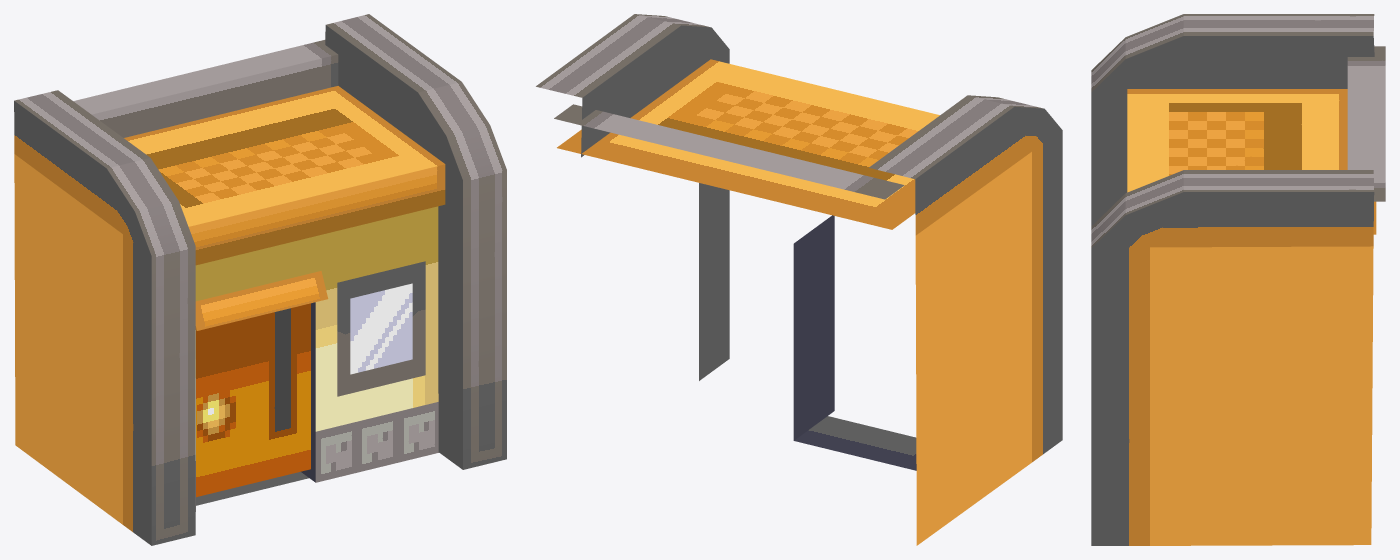
The picture shows the model from 3 angles, left to right: view 1: azimuth 30°, elevation 25°; view 2: azimuth 150°, elevation 25°; view 3: azimuth 270°, elevation 25°; orthographic projection. The views are drawn at different scales.
Bounding box in the file's own units: 3.35 × 3.11 × 2.34.
Materials: 3 (3 with a texture image).
